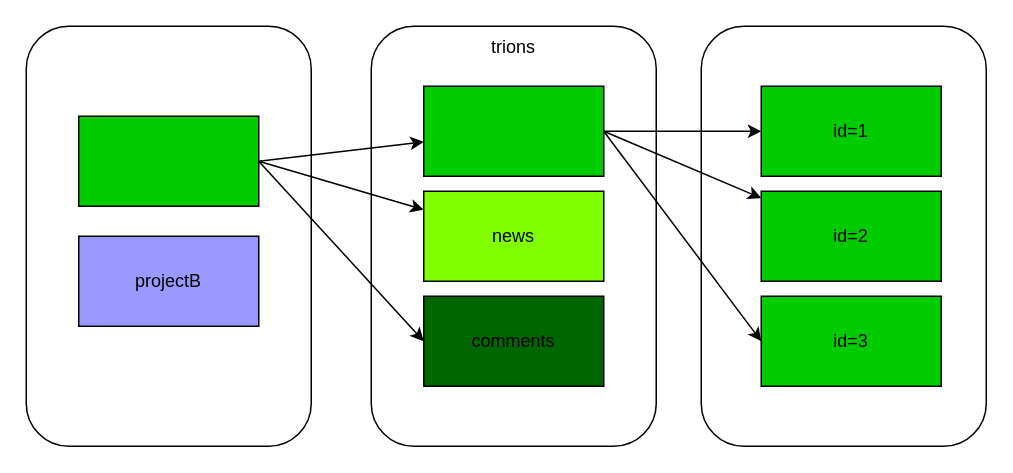
The diagram is 1013 pixels wide and 473 high, and some of its shapes have lost their labels. The box of each missing label's shape, as (x1, y1, x2, y2) in pixels:
articles: (422, 85, 604, 176)
projectA: (77, 115, 259, 206)
projects: (25, 25, 311, 446)
trion instances: (700, 25, 986, 446)
